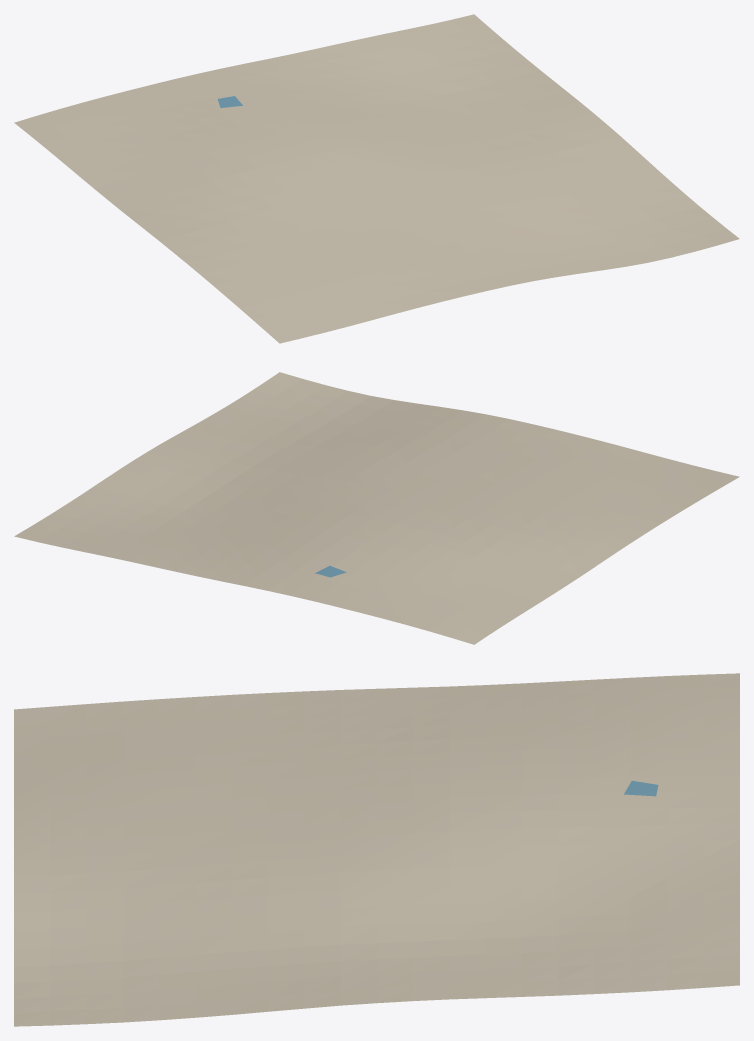
File: bolak_10_-8.glb
3 views of the same model, one above another, from view 1: azimuth 30°, elevation 25°; view 2: azimuth 150°, elevation 25°; view 3: azimuth 270°, elevation 25° (orthographic). The views are drawn at different scales.
Visible parts, largest first — view 1: Yer_Tuproq-col; view 2: Yer_Tuproq-col; view 3: Yer_Tuproq-col.
Boxes of the visible parts, x1,y1,x2,y2 form: Yer_Tuproq-col: (14,14,739,343); Yer_Tuproq-col: (14,372,739,644); Yer_Tuproq-col: (14,673,739,1026).
Bounding box in the file's own units: 400 × 33.59 × 400.
